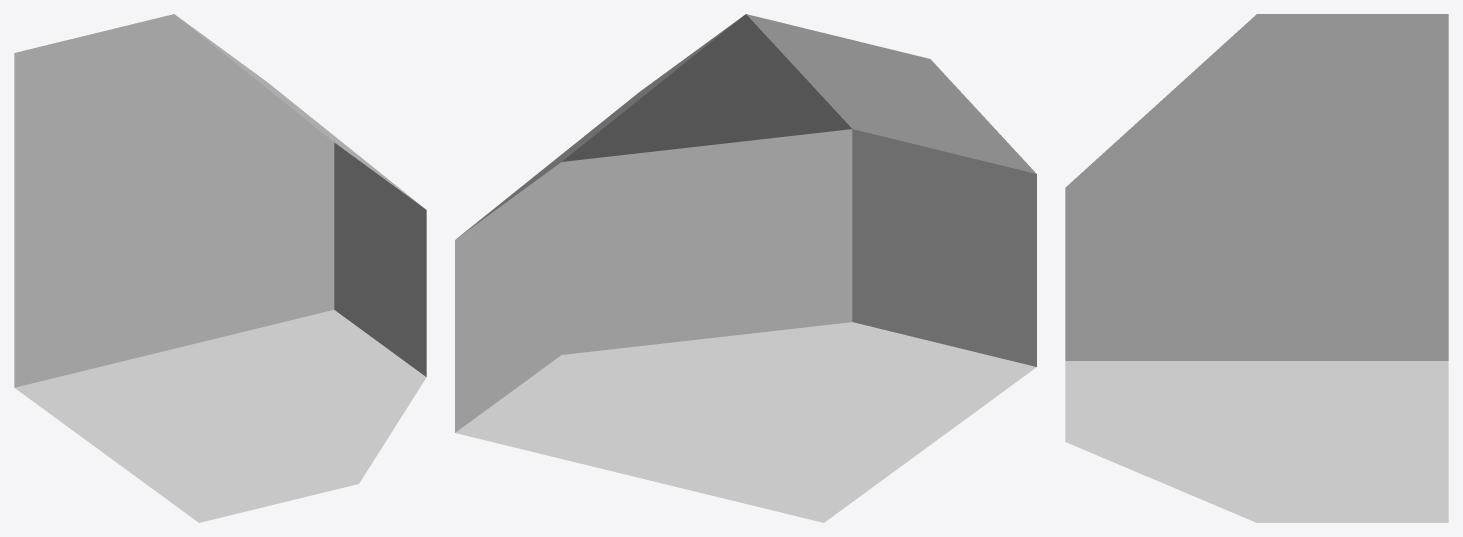
The model's file is r5c6_border_light_grey.gltf.
3 views of the same model, side by side, from view 1: azimuth 30°, elevation 25°; view 2: azimuth 150°, elevation 25°; view 3: azimuth 270°, elevation 25° (orthographic). The views are drawn at different scales.
Parts seen in each view (by area): view 1: r5c6_border_light_grey; view 2: r5c6_border_light_grey; view 3: r5c6_border_light_grey.
Boxes of the visible parts, bbox=[...] form: r5c6_border_light_grey: bbox=[14, 14, 426, 522]; r5c6_border_light_grey: bbox=[455, 14, 1036, 522]; r5c6_border_light_grey: bbox=[1065, 14, 1448, 522].
Size of the model in its own units: 2.1 by 2.1 by 2.1.
Materials: 1 (1 with a texture image).
